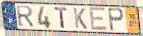4: (37, 5, 53, 29)
E: (88, 6, 109, 32)
K: (72, 7, 89, 30)
P: (107, 8, 125, 33)
R: (15, 5, 36, 28)
T: (54, 7, 69, 30)
